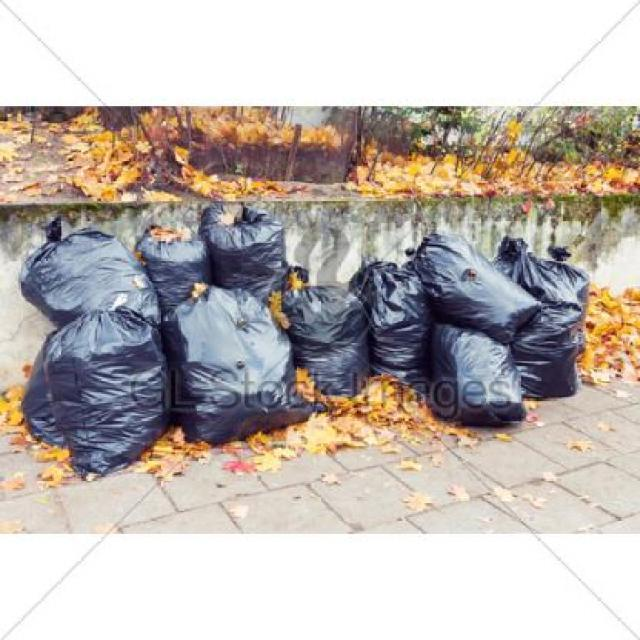garbage: (23, 212, 614, 476)
